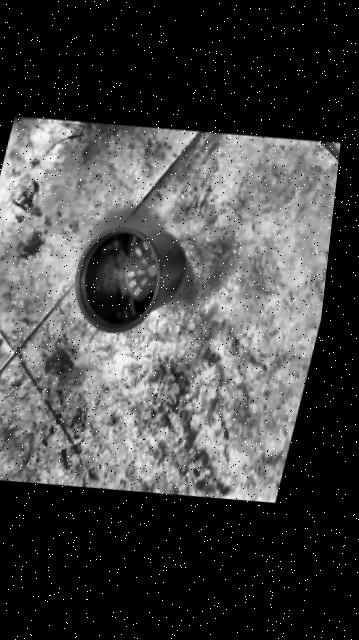pot: (59, 217, 195, 343)
